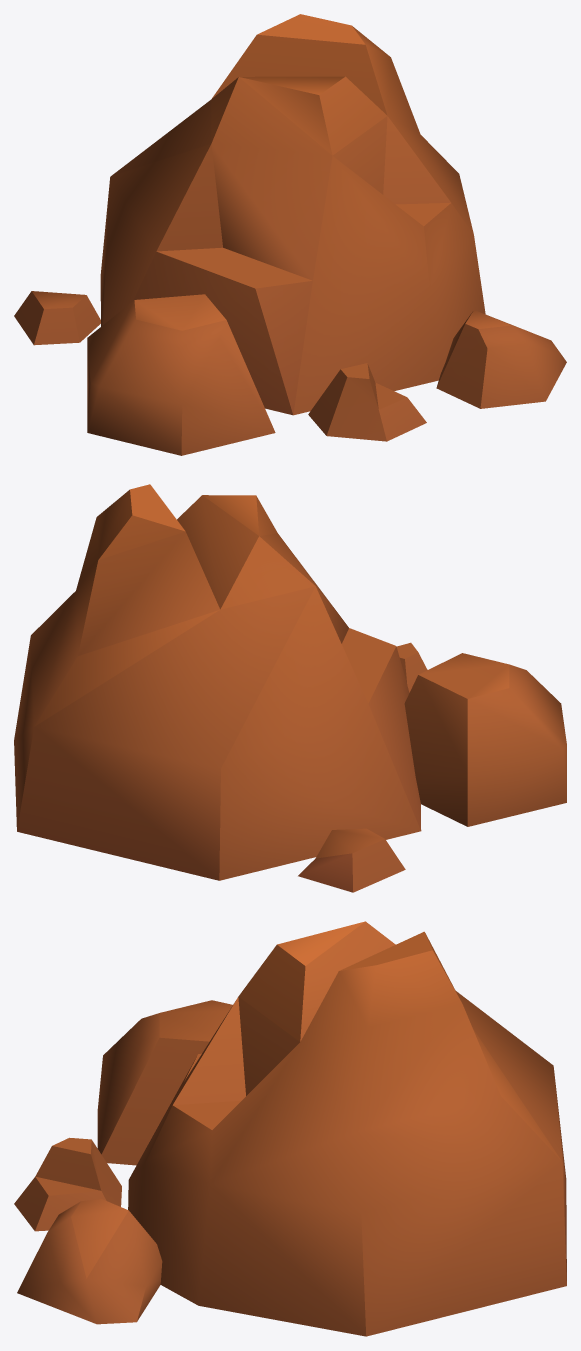
Rendered from space-rocks-b.glb.
3 renders of one model, top to bottom at view 1: azimuth 30°, elevation 25°; view 2: azimuth 150°, elevation 25°; view 3: azimuth 270°, elevation 25°, orthographic. The views are drawn at different scales.
Parts seen in each view (by area): view 1: rocks_B; view 2: rocks_B; view 3: rocks_B.
Boxes of the visible parts, bbox=[...] form: rocks_B: bbox=[14, 14, 566, 455]; rocks_B: bbox=[14, 484, 566, 892]; rocks_B: bbox=[14, 921, 566, 1336].
Bounding box in the file's own units: 1.88 × 1.07 × 1.74.
